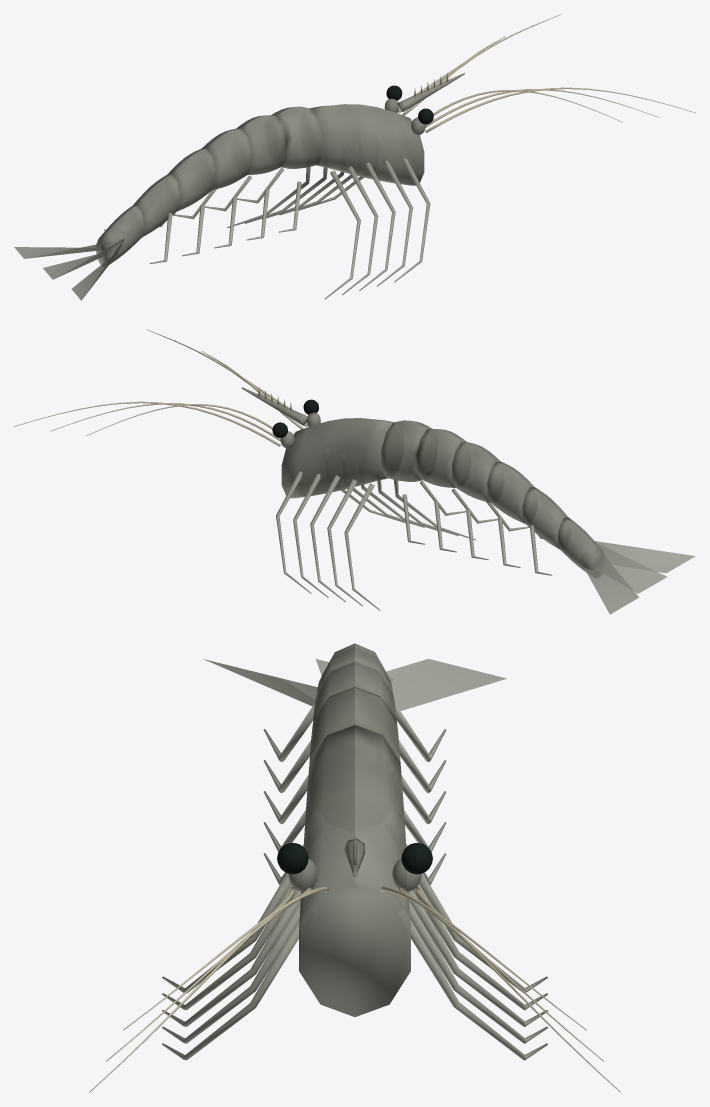
File: amanoshrimp-mobile.glb
The picture shows the model from 3 angles, top to bottom: view 1: azimuth 30°, elevation 25°; view 2: azimuth 150°, elevation 25°; view 3: azimuth 270°, elevation 25°; orthographic projection. The views are drawn at different scales.
Visible parts, largest first — view 1: carapace, pereiopod, antenna, pleopod, serrated-rostrum; view 2: carapace, pereiopod, antenna, pleopod, serrated-rostrum; view 3: carapace, pereiopod, pleopod, antenna, eye, eye-stalk.
Boxes of the visible parts, x1,y1,x2,y2 form: carapace: (14,104,424,300); pereiopod: (227,136,430,299); antenna: (398,14,695,133); pleopod: (104,167,301,263); serrated-rostrum: (397,73,464,111); carapace: (281,418,695,614); pereiopod: (276,449,475,610); antenna: (14,329,307,446); pleopod: (402,480,552,575); serrated-rostrum: (241,387,308,425); carapace: (203,643,506,1016); pereiopod: (162,844,547,1060); pleopod: (263,703,446,884); antenna: (89,886,620,1092); eye: (277,843,432,874); eye-stalk: (288,859,421,891).
Size of the model in its own units: 1.18 by 0.2938 by 0.4707.
